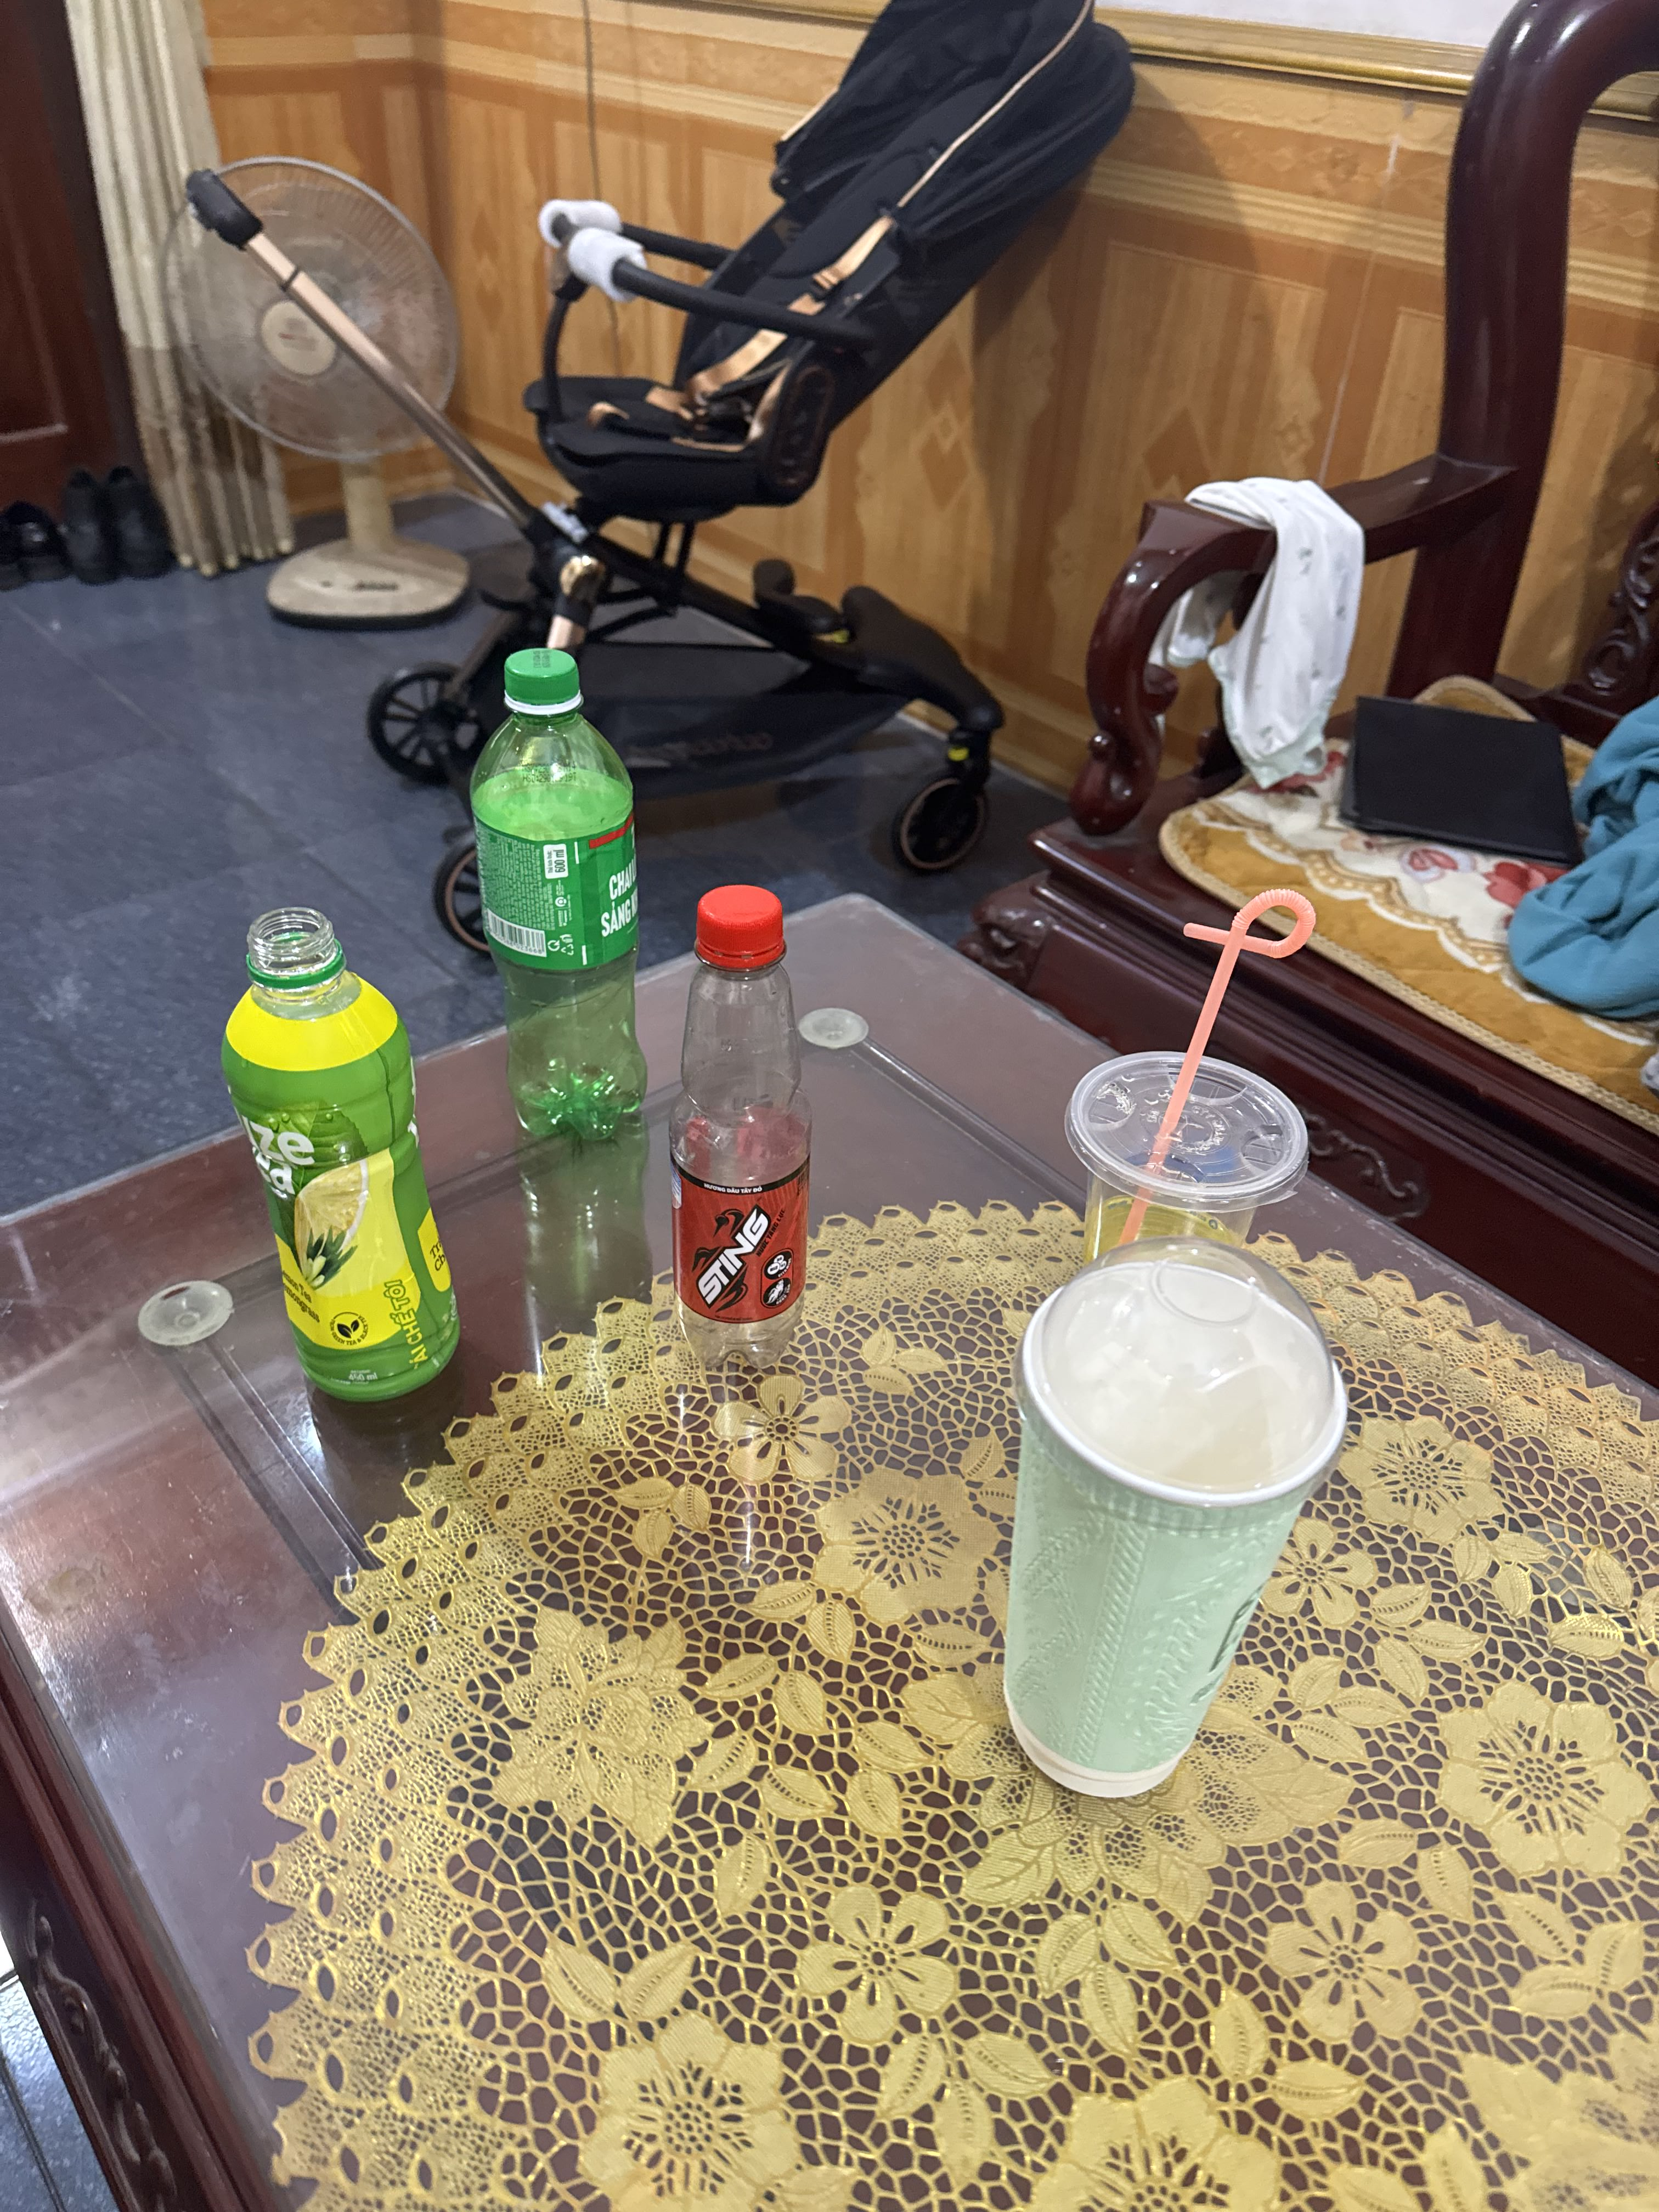2: (976, 1221, 1366, 1851), (1037, 1026, 1345, 1301)
bottle: (211, 894, 493, 1416), (636, 864, 873, 1400), (450, 625, 673, 1158)
